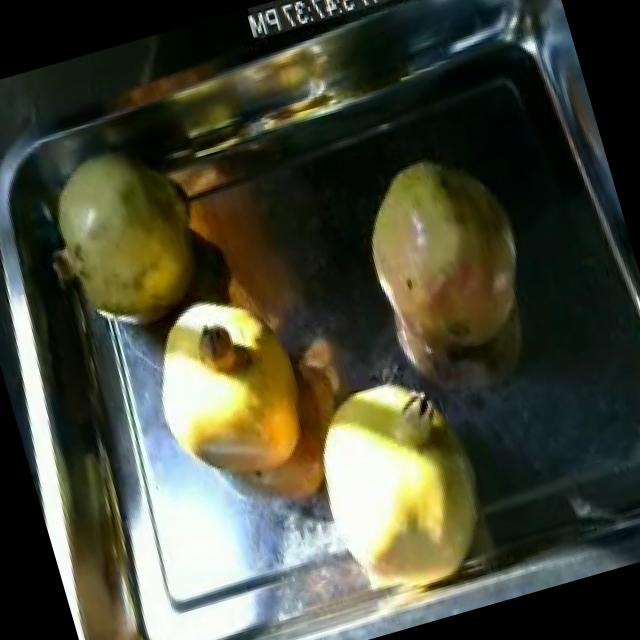fruit: (268, 333, 523, 625), (340, 131, 552, 380), (130, 273, 334, 515), (23, 118, 230, 349)
